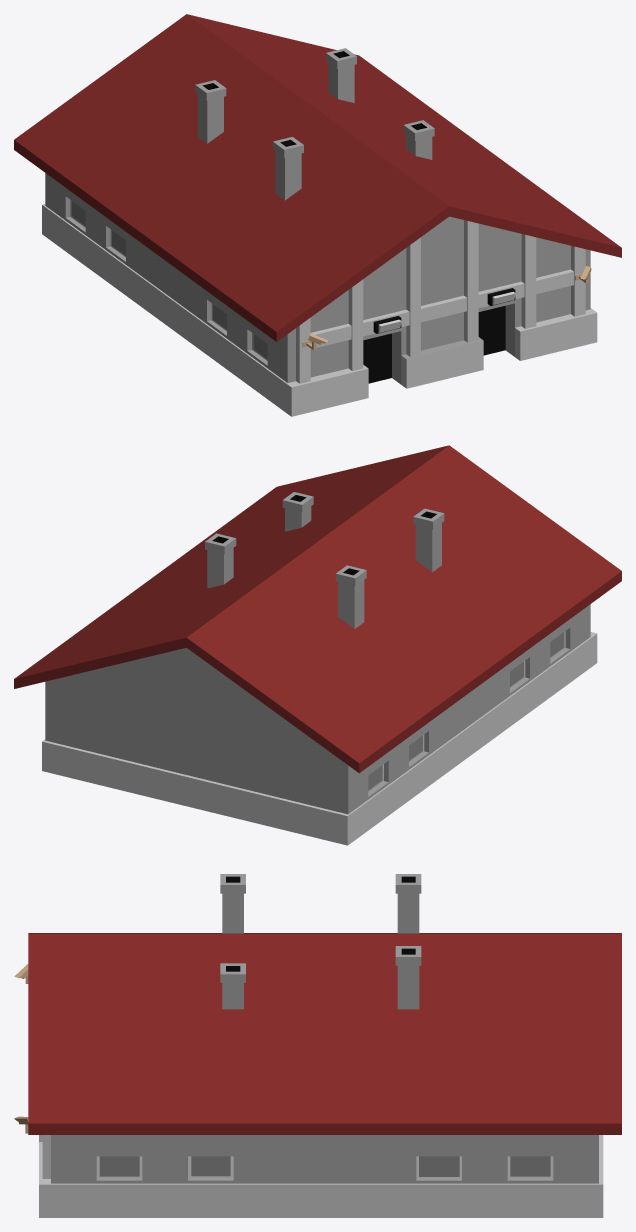
The model's file is Building_Large01.fbx.
3 views of the same model, one above another, from view 1: azimuth 30°, elevation 25°; view 2: azimuth 150°, elevation 25°; view 3: azimuth 270°, elevation 25° (orthographic). The views are drawn at different scales.
Parts seen in each view (by area): view 1: Building_Large01; view 2: Building_Large01; view 3: Building_Large01.
Part boxes in pixels (x1,y1,x2,y2): Building_Large01: (14,14,621,416); Building_Large01: (14,445,621,845); Building_Large01: (14,874,621,1217).
Size of the model in its own units: 4363 by 2300 by 5887.
